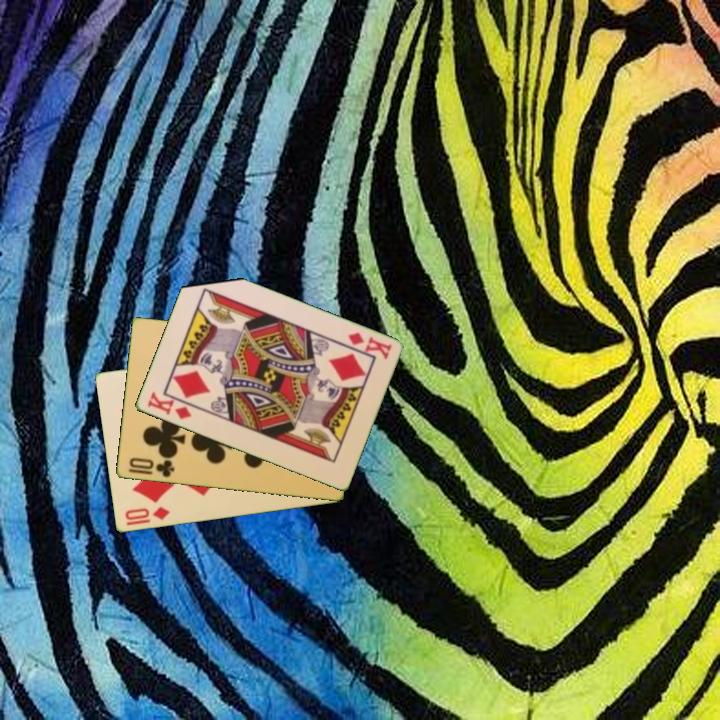10c: (125, 454, 177, 480)
10d: (121, 503, 172, 523)
Kd: (143, 388, 194, 423), (344, 329, 394, 363)
